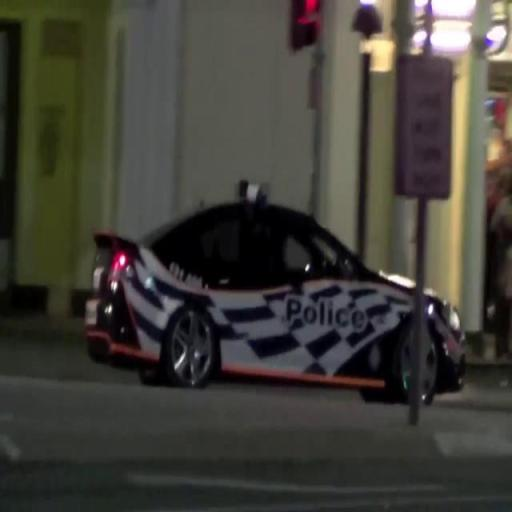Ambulance: (84, 181, 464, 404)
